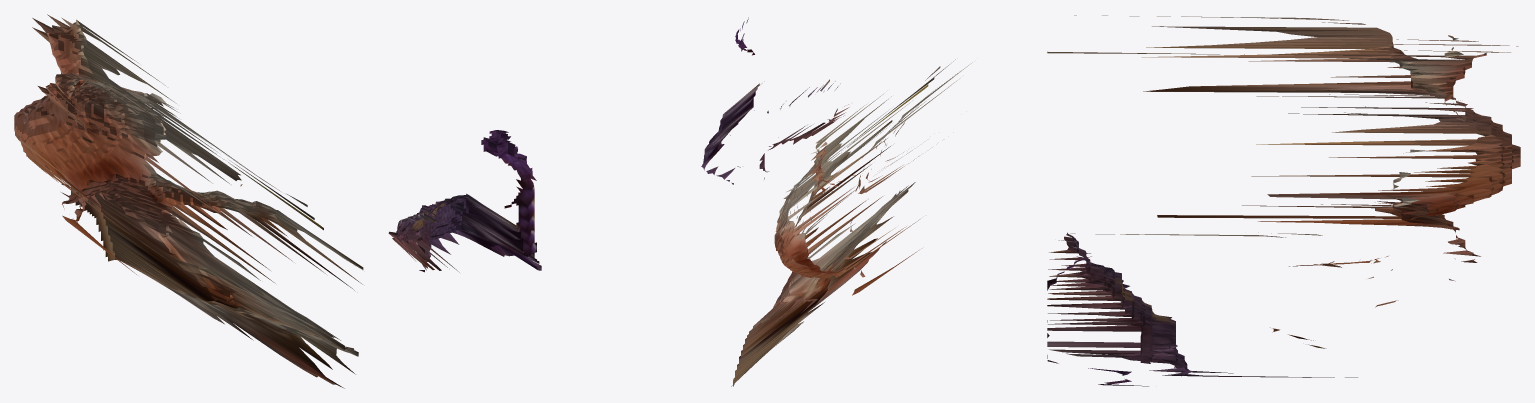
File: frame_00308.glb
3 views of the same model, side by side, from view 1: azimuth 30°, elevation 25°; view 2: azimuth 150°, elevation 25°; view 3: azimuth 270°, elevation 25° (orthographic). The views are drawn at different scales.
Visible parts, largest first — view 1: geometry_0; view 2: geometry_0; view 3: geometry_0.
Boxes of the visible parts, x1,y1,x2,y2 form: geometry_0: (14, 14, 541, 388); geometry_0: (701, 17, 972, 386); geometry_0: (1047, 15, 1520, 386).
Size of the model in its own units: 0.1417 by 0.1144 by 0.16.
1 material, 1 textured.
